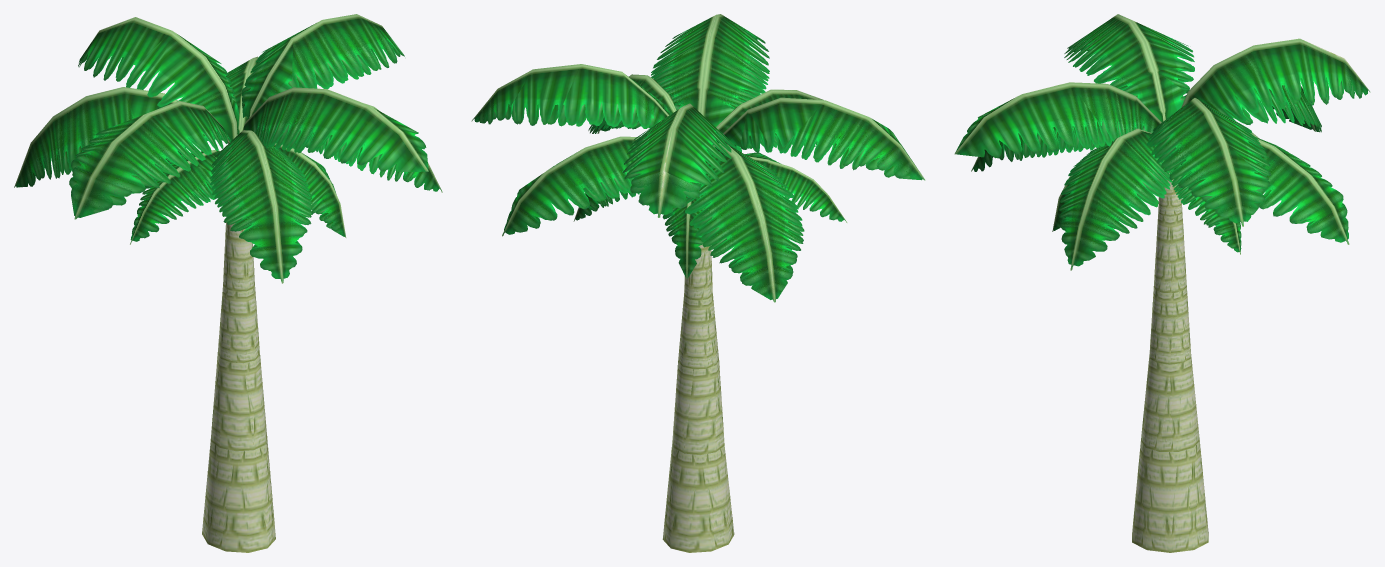
The model's file is Tree.obj.
3 views of the same model, side by side, from view 1: azimuth 30°, elevation 25°; view 2: azimuth 150°, elevation 25°; view 3: azimuth 270°, elevation 25° (orthographic). The views are drawn at different scales.
Size of the model in its own units: 106 by 123 by 96.2.
Materials: 1 (1 with a texture image).
